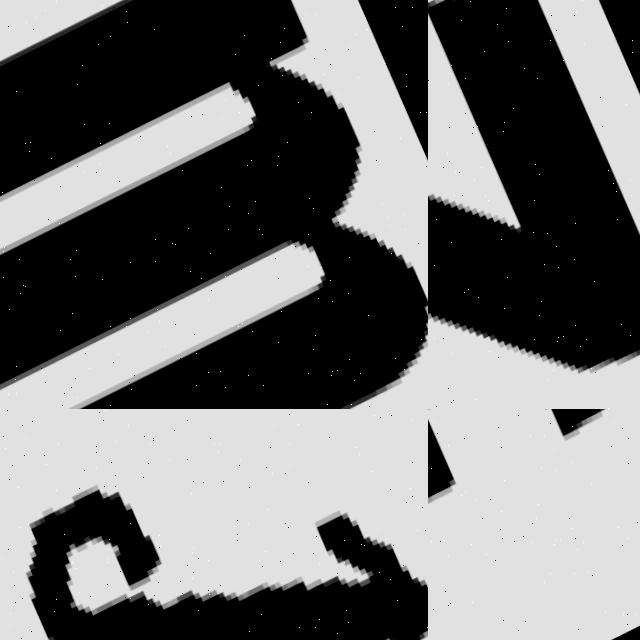F: (428, 409, 640, 640)
J: (0, 409, 428, 640)
M: (0, 0, 428, 409)
Z: (428, 0, 640, 409)
